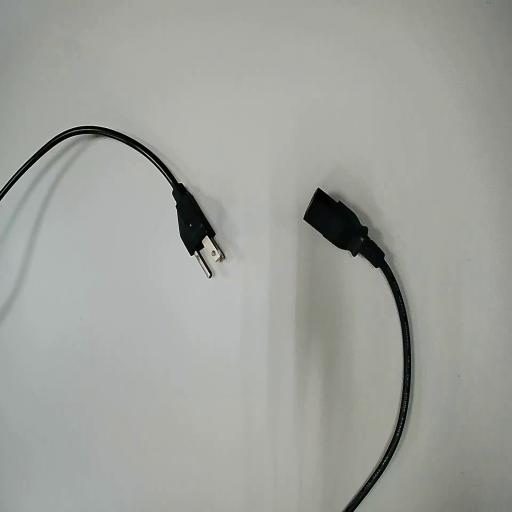wire: (304, 189, 410, 511), (0, 127, 217, 253)
